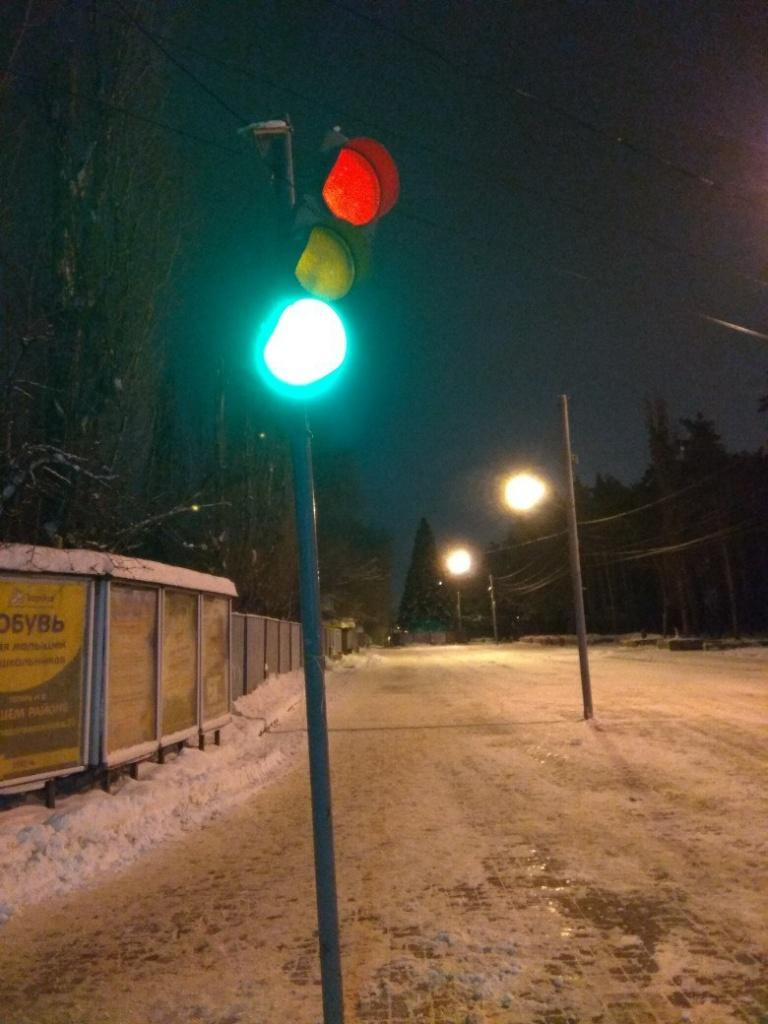traffic light: (239, 120, 398, 394)
